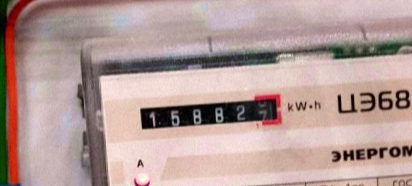1: (147, 109, 158, 127)
2: (235, 102, 247, 121)
5: (169, 109, 181, 126)
7: (257, 108, 269, 120)
8: (190, 107, 203, 124), (213, 105, 225, 123)
screen: (131, 90, 288, 138)
